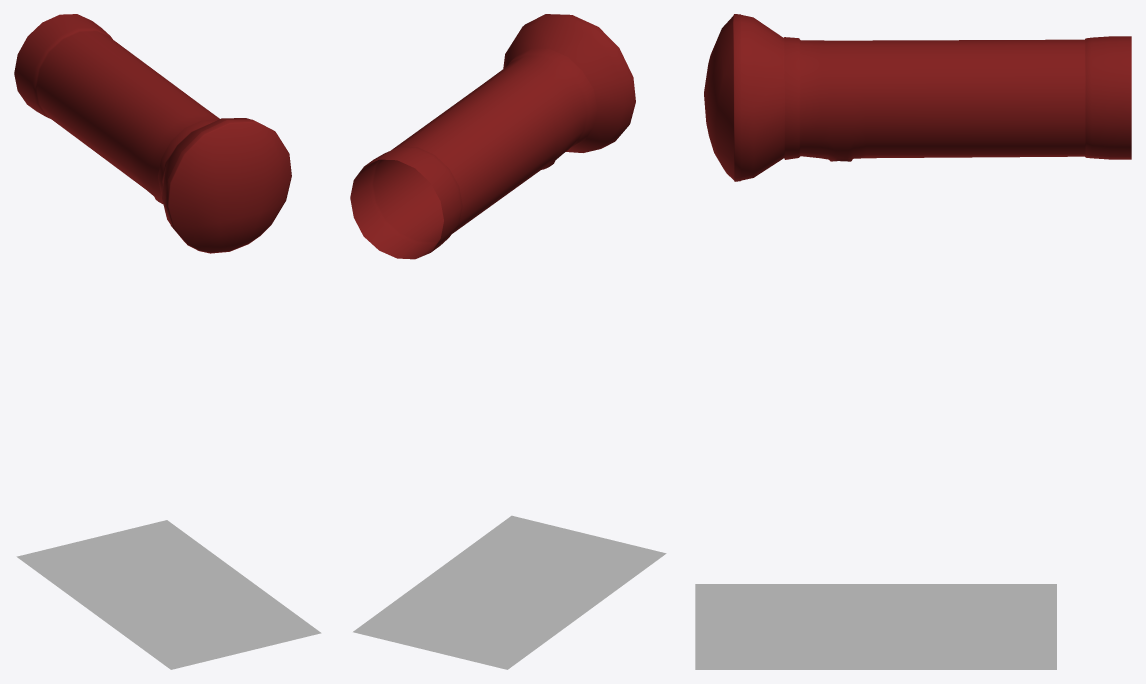
Rendered from postbox_ver_a5.glb.
3 views of the same model, side by side, from view 1: azimuth 30°, elevation 25°; view 2: azimuth 150°, elevation 25°; view 3: azimuth 270°, elevation 25° (orthographic). The views are drawn at different scales.
Visible parts, largest first — view 1: postbox_lowres, letter; view 2: postbox_lowres, letter; view 3: postbox_lowres, letter.
Boxes of the visible parts, x1=… form: postbox_lowres: x1=14, y1=14, x2=291, y2=253; letter: x1=16, y1=520, x2=321, y2=669; postbox_lowres: x1=350, y1=14, x2=635, y2=259; letter: x1=353, y1=515, x2=666, y2=669; postbox_lowres: x1=704, y1=14, x2=1131, y2=181; letter: x1=695, y1=584, x2=1056, y2=669.
Bounding box in the file's own units: 0.1094 × 0.3587 × 0.2346.
